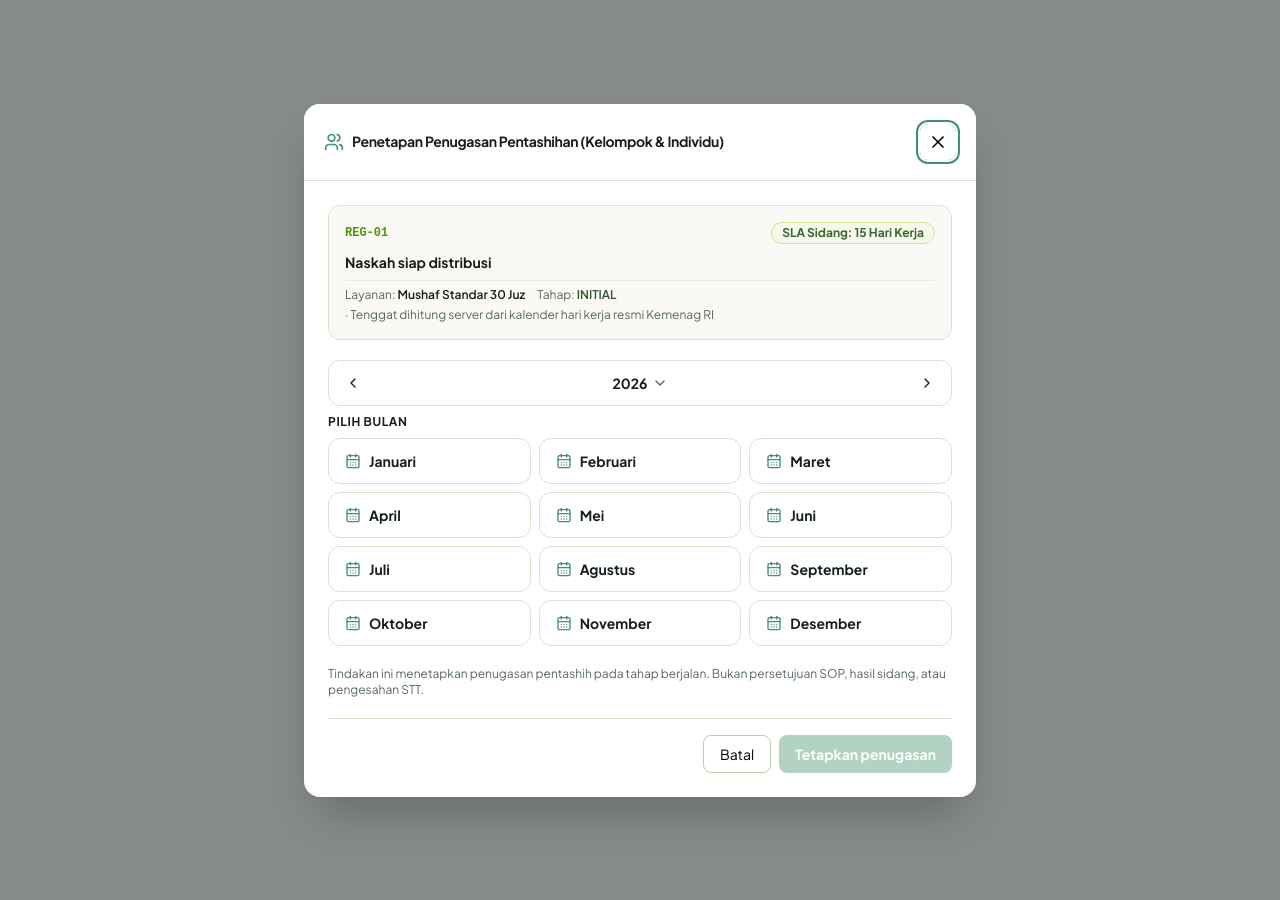
Test: Manual team assignment (B-05) › shows server concurrency errors without silently claiming success
Expected: the text "Naskah siap distribusi" is shown, [345,252,492,270]
Click the button "Januari" at [429, 460], box [328,438,531,484]
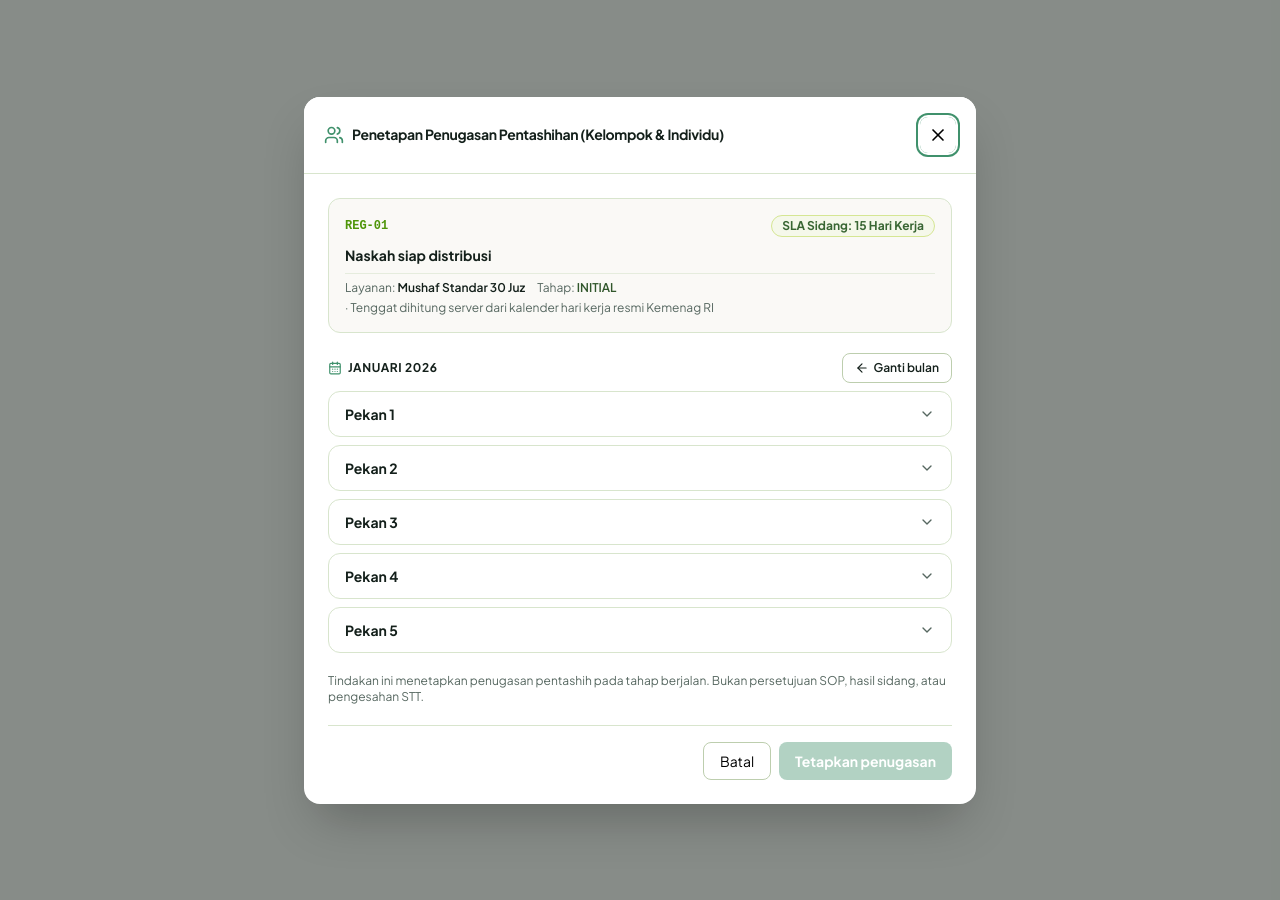
Click the button "Pekan 1" at [367, 414], box [329,392,951,436]
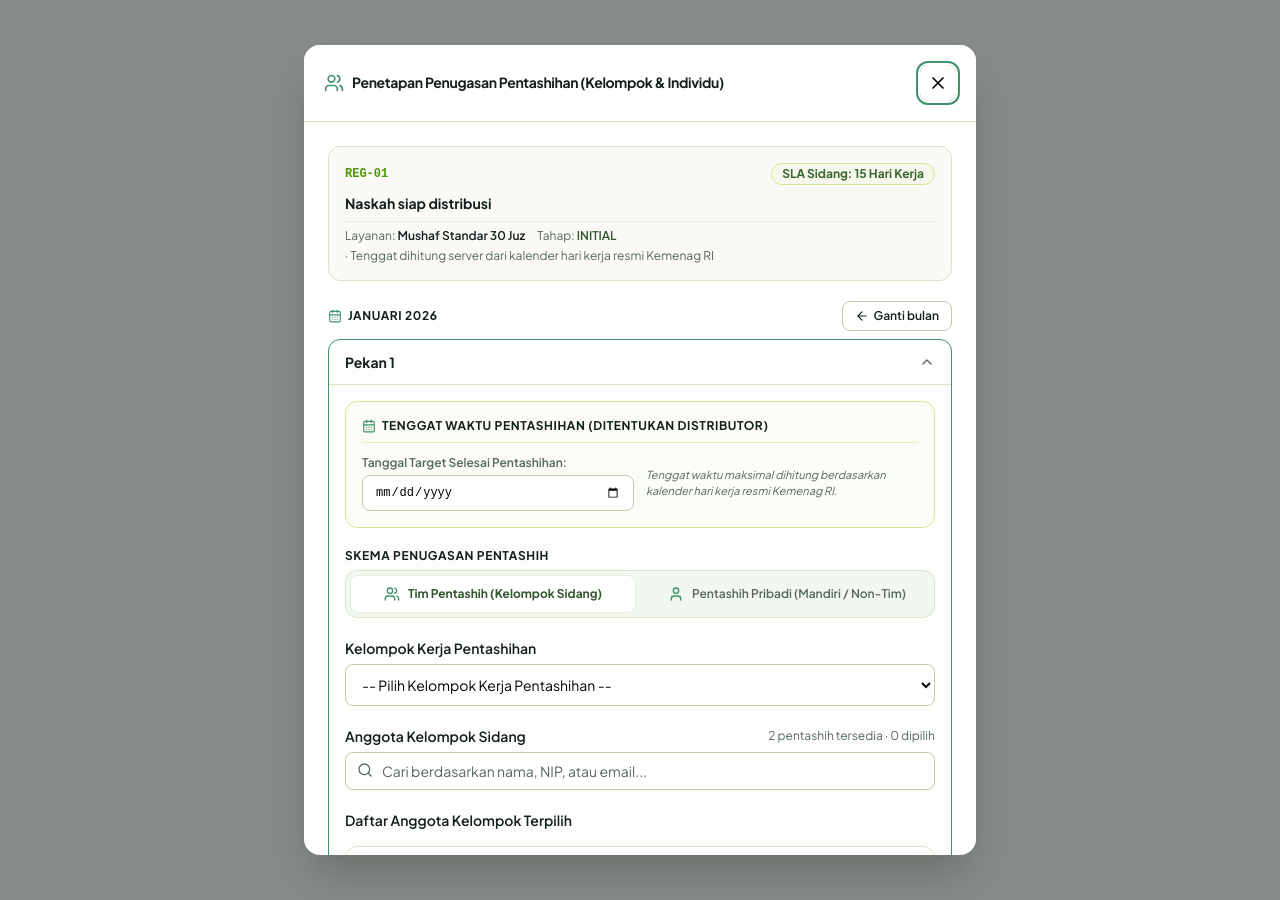
Select "Kelompok Reguler · NOMOR-01" in the dropdown labelled "Kelompok Kerja Pentashihan" at [640, 685], box [345,664,935,706]
(page scrolled)
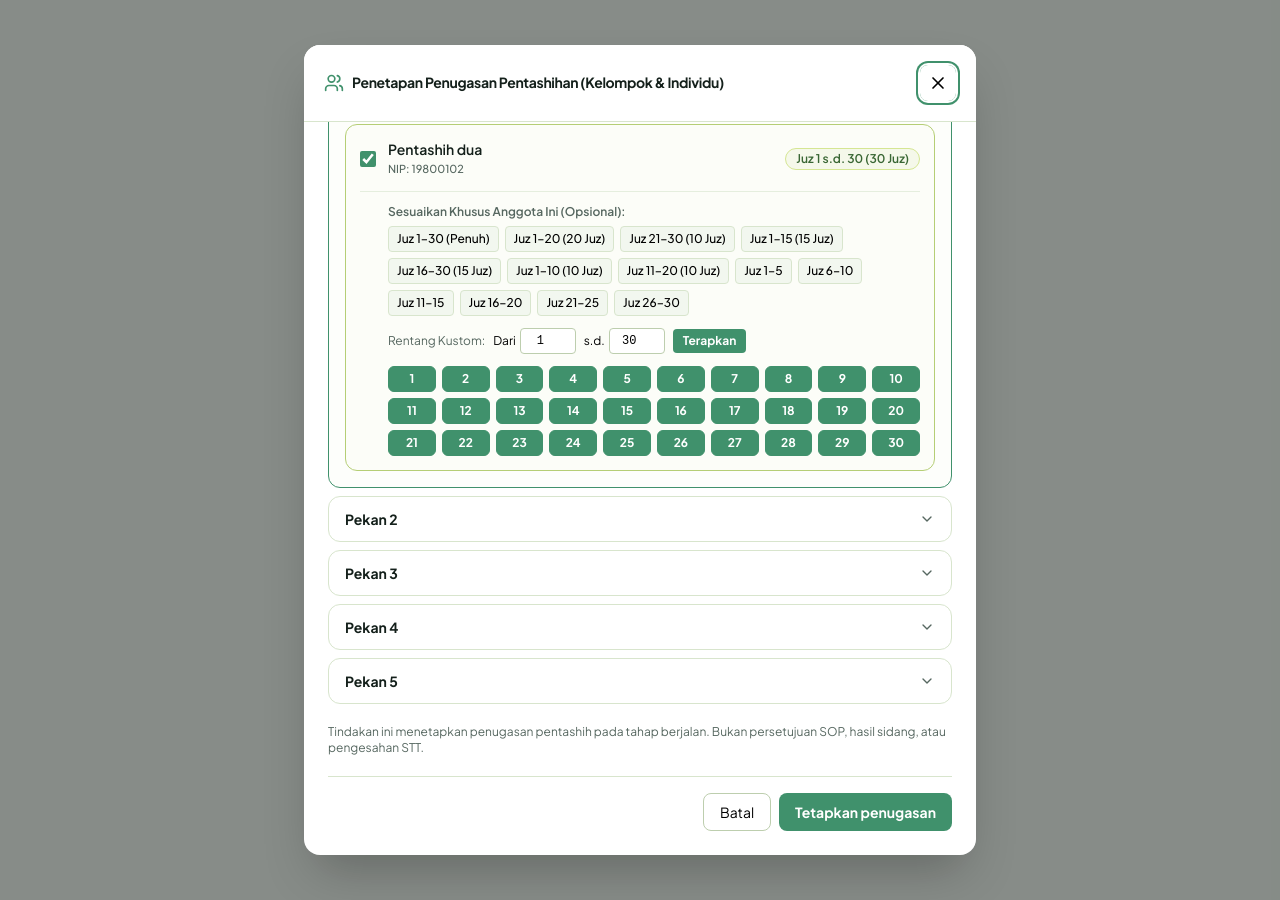
Click the button "Tetapkan penugasan" at [866, 812], box [779,793,952,831]
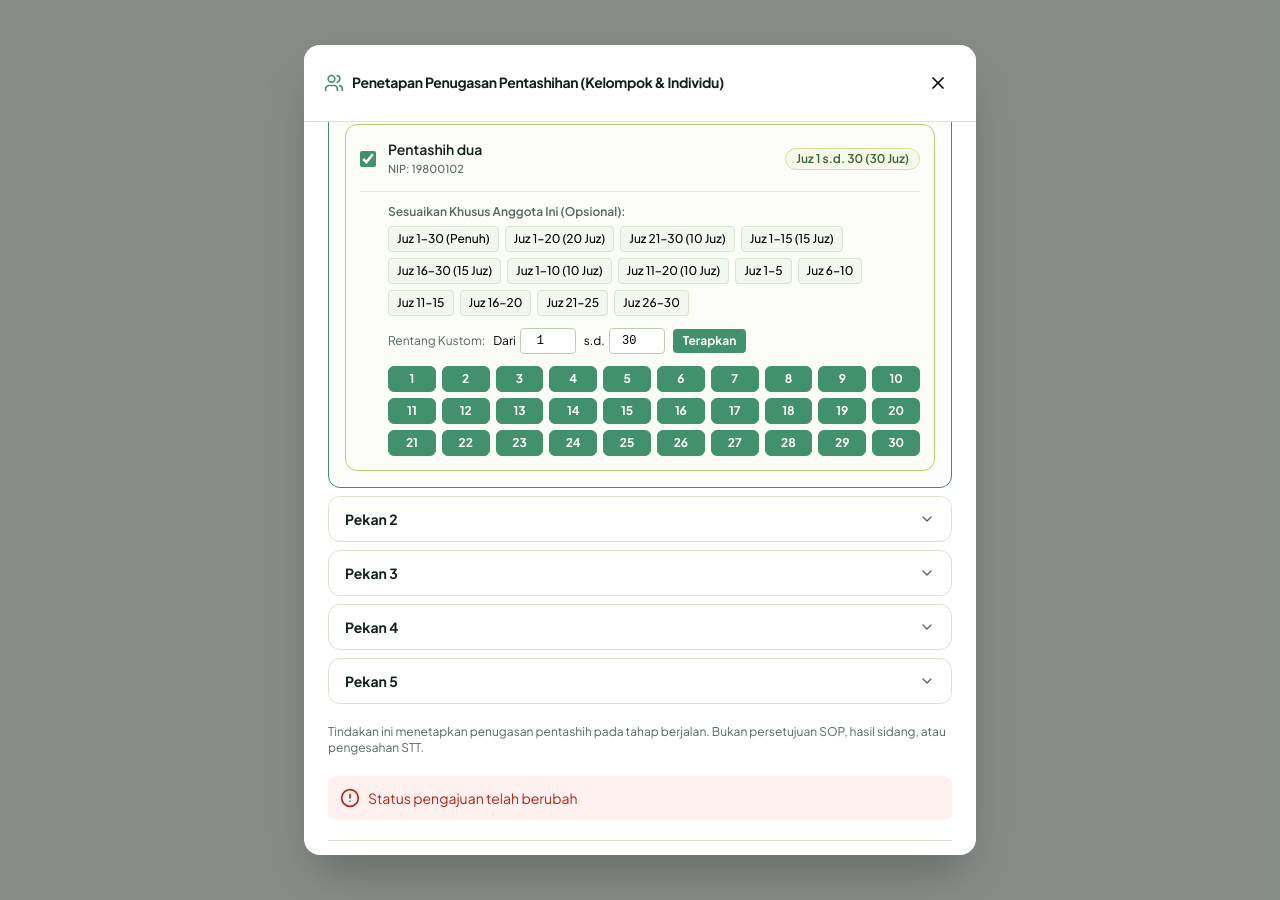
Expected: the message reads "Status pengajuan telah berubah", [368,789,578,807]
